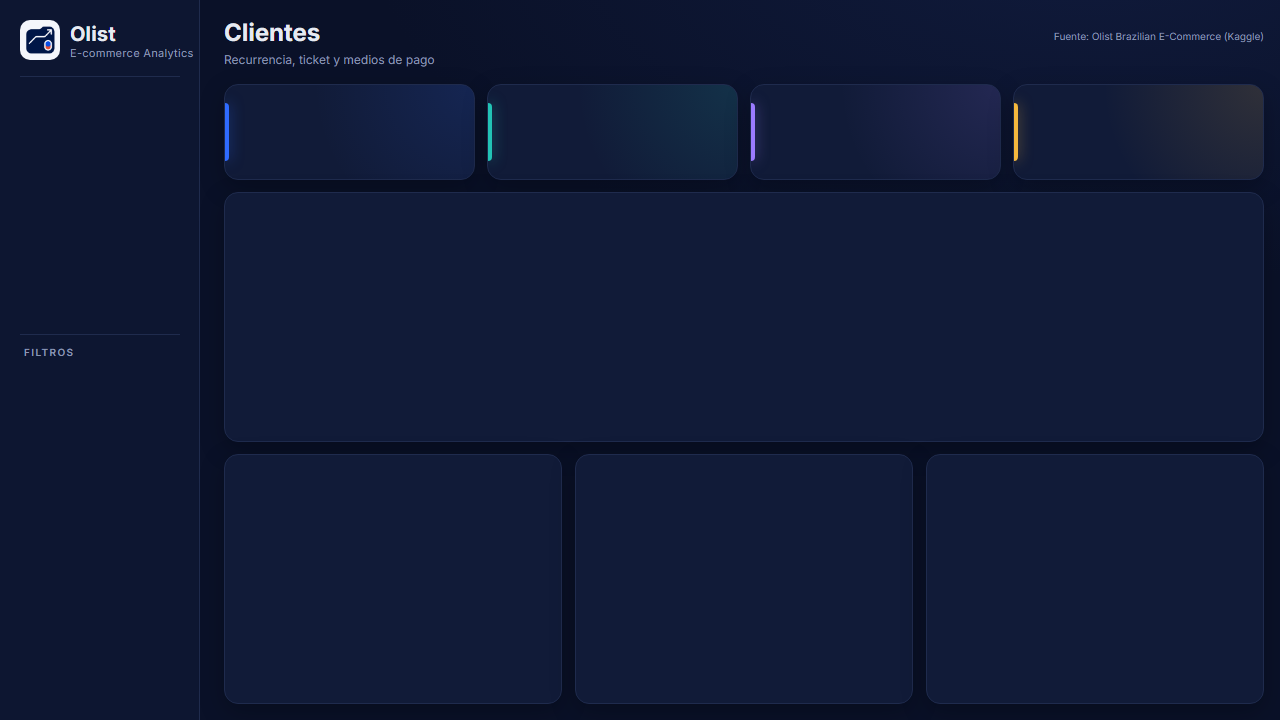

The dashboard page shown, as its layout file describes it:
{"tool":"powerbi","page":{"name":"✅ 4. Análisis de Cliente","canvas":[1280,720],"ordinal":3},"visuals":[{"type":"lineChart","title":"Medio Puntación y Venta Total ","fields":{"Category":["df_nuevas_columnas.Año-Mes"],"Y":["df_nuevas_columnas.Promedio Reviews"],"Y2":["df_nuevas_columnas.Total Ventas"]},"box":[676.7,428.3,573.3,261.7],"z":1000},{"type":"textbox","box":[51.1,10.5,572.4,87.1],"z":6000},{"type":"image","box":[1150,10,120,88.3],"z":7000},{"type":"card","title":"% de Reseñas Positivas","fields":{"Values":["df_nuevas_columnas.% Reseñas Positivas"]},"box":[51.3,109.7,231,105.3],"z":8000},{"type":"card","title":"Promedio Reviews","fields":{"Values":["df_nuevas_columnas.Promedio Reviews"]},"box":[300.9,109.7,231,105.3],"z":9000},{"type":"columnChart","title":"Metodo de Pago por Categoria de Precio","fields":{"Category":["df_nuevas_columnas.Categoría_Precio"],"Series":["df_nuevas_columnas.Metodo_Pago_Filtro_Limpio"],"Y":["CountNonNull(df_nuevas_columnas.Metodo_Pago_Filtro_Limpio)"]},"box":[651.5,110.3,597.9,285.6],"z":10000},{"type":"barChart","title":"Clientes por Precio de Ticket","fields":{"Category":["df_nuevas_columnas.rango_ticket"],"Series":["df_nuevas_columnas.Region"],"Y":["Sum(df_nuevas_columnas.precio_ticket)"]},"box":[32,476,592,214],"z":11000},{"type":"donutChart","title":"Frecuencia de Compra de Cliente","fields":{"Category":["df_nuevas_columnas.frecuencia_compra"],"Y":["df_nuevas_columnas.Total_Clientes"]},"box":[31.7,241.7,591.7,235],"z":12000}]}

Visuals, with their boxes on the page's 1280x720 design canvas (x1, y1, x2, y2). These are canvas units, not pixel positions in the 1280x720 screenshot, which may show the page scaled, cropped or inside an application window:
"Medio Puntación y Venta Total " lineChart: pyautogui.locateOnScreen(677, 428, 1250, 690)
textbox: pyautogui.locateOnScreen(51, 10, 624, 98)
image: pyautogui.locateOnScreen(1150, 10, 1270, 98)
"% de Reseñas Positivas" card: pyautogui.locateOnScreen(51, 110, 282, 215)
"Promedio Reviews" card: pyautogui.locateOnScreen(301, 110, 532, 215)
"Metodo de Pago por Categoria de Precio" columnChart: pyautogui.locateOnScreen(652, 110, 1249, 396)
"Clientes por Precio de Ticket" barChart: pyautogui.locateOnScreen(32, 476, 624, 690)
"Frecuencia de Compra de Cliente" donutChart: pyautogui.locateOnScreen(32, 242, 623, 477)
